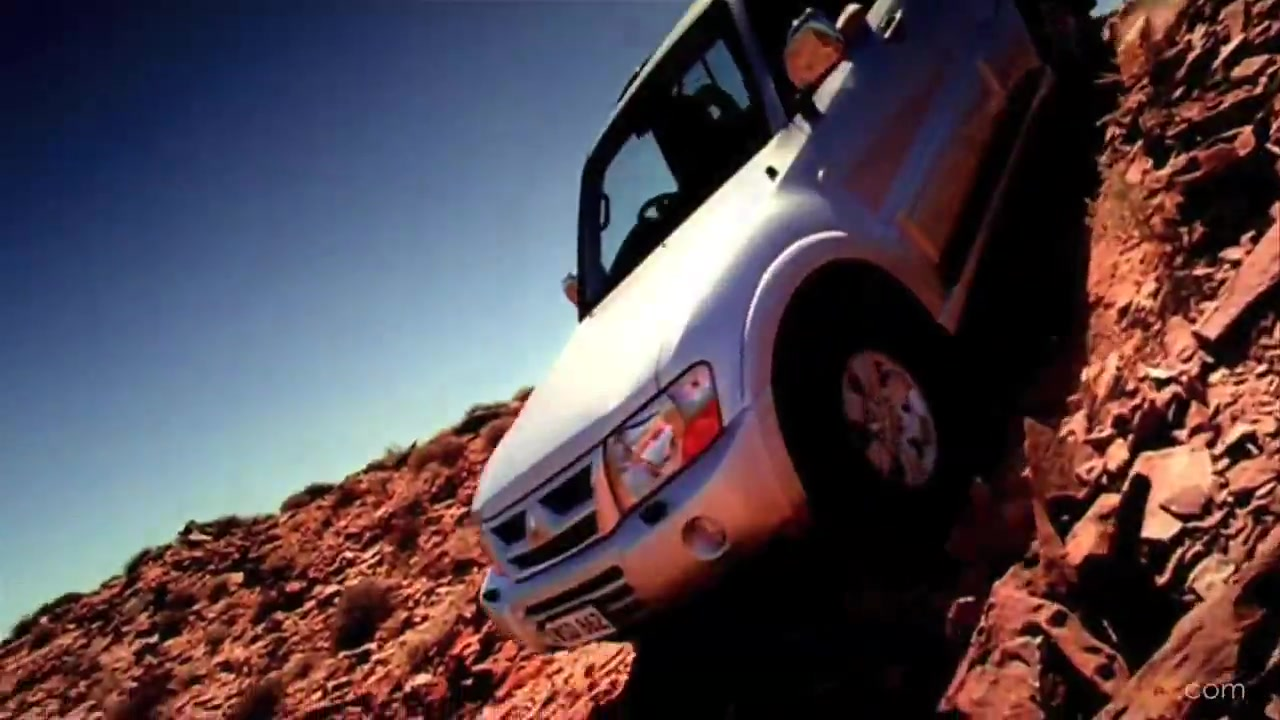car: (470, 1, 1104, 654)
